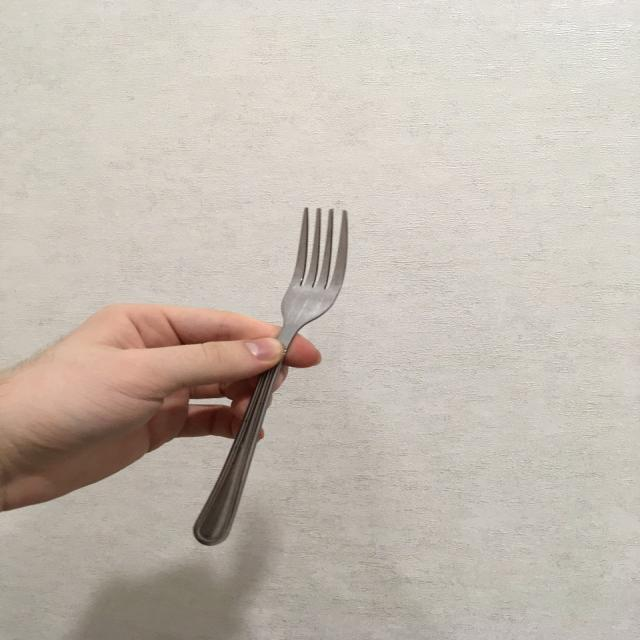fork: (191, 205, 351, 548)
